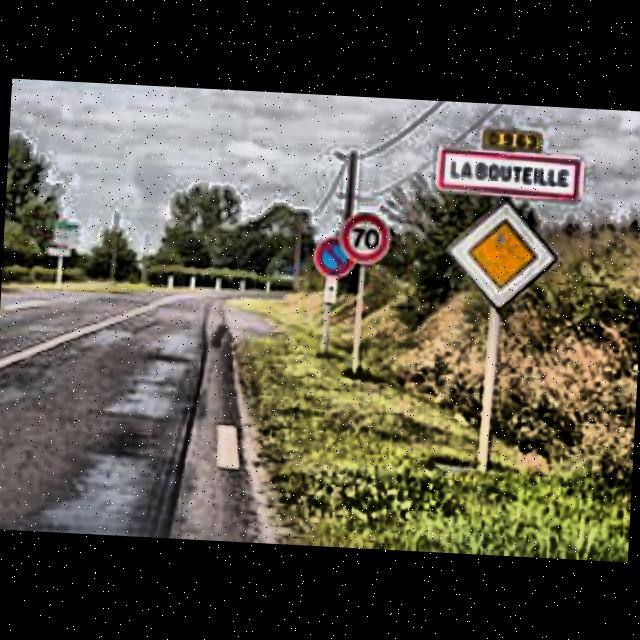speed_70: (338, 210, 393, 266)
